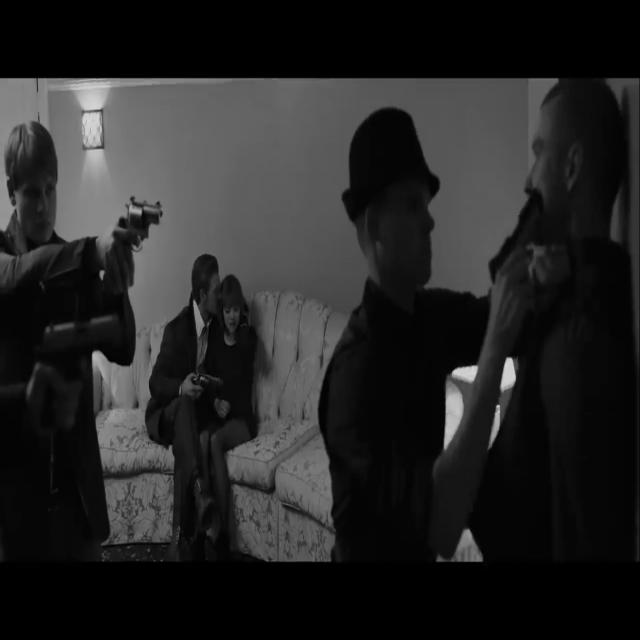gun: (34, 316, 121, 428), (488, 189, 544, 356), (118, 196, 164, 252), (190, 372, 223, 391)
